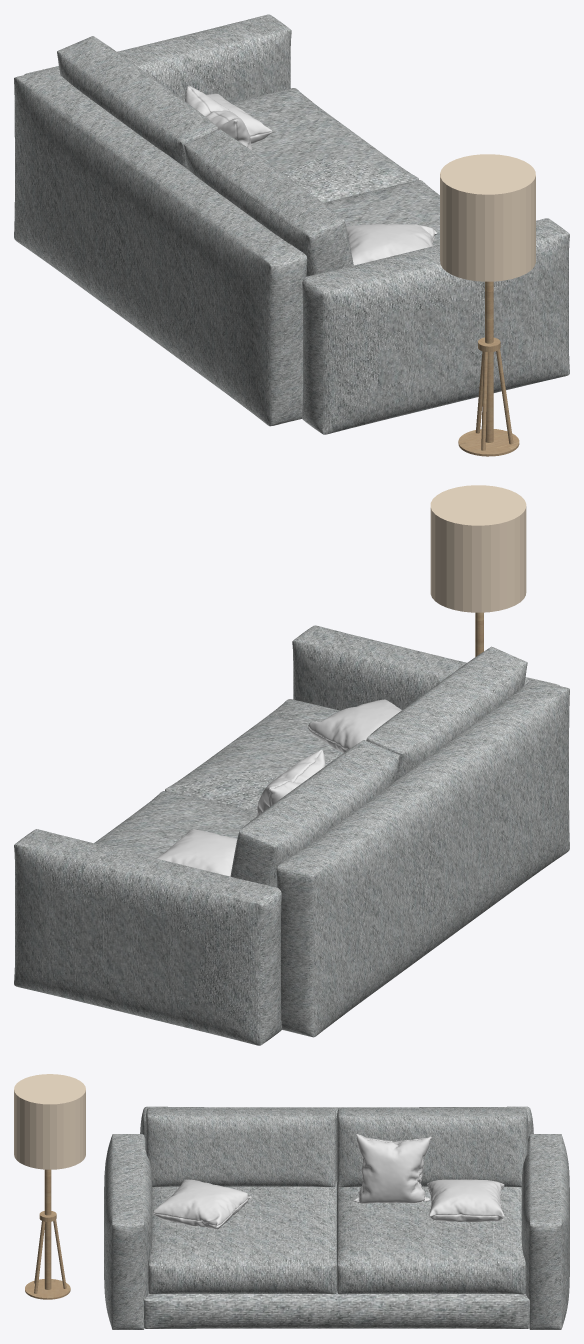
File: sofa_and_lamp.glb
3 renders of one model, top to bottom at view 1: azimuth 30°, elevation 25°; view 2: azimuth 150°, elevation 25°; view 3: azimuth 270°, elevation 25°, orthographic. The views are drawn at different scales.
Parts seen in each view (by area): view 1: sofa, lampshades, cushion, light pole; view 2: sofa, lampshades, cushion; view 3: sofa, cushion, lampshades, light pole.
Boxes of the visible parts, x1,y1,x2,y2 form: sofa: (14,14,569,434); lampshades: (440,154,535,281); cushion: (184,85,437,265); light pole: (458,281,519,456); sofa: (14,625,569,1045); lampshades: (430,485,526,612); cushion: (156,699,401,876); sofa: (104,1106,569,1329); cushion: (153,1134,504,1229); lampshades: (14,1074,85,1169); light pole: (25,1169,70,1299).
Size of the model in its own units: 1.17 by 1.03 by 2.57.
4 materials, 2 textured.
